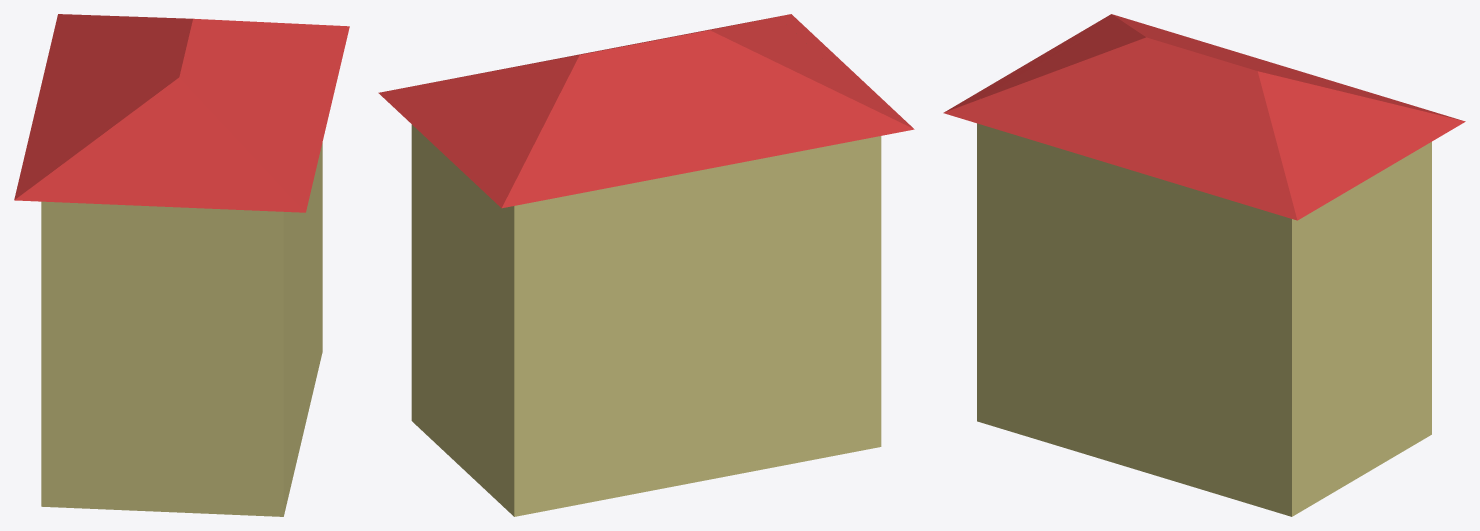
3 views of the same model, side by side, from view 1: azimuth 30°, elevation 25°; view 2: azimuth 150°, elevation 25°; view 3: azimuth 270°, elevation 25° (orthographic). The views are drawn at different scales.
Visible parts, largest first — view 1: group_5, group_3, group_4; view 2: group_5, group_3, group_4; view 3: group_5, group_3, group_4.
Boxes of the visible parts, box(x1,y1,x2,y2) form: group_5: box(41, 142, 322, 516); group_3: box(14, 14, 349, 212); group_4: box(108, 108, 305, 212); group_5: box(411, 124, 881, 516); group_3: box(378, 15, 914, 208); group_4: box(476, 14, 852, 207); group_5: box(977, 123, 1431, 516); group_3: box(945, 14, 1465, 220); group_4: box(943, 41, 1465, 146).
Bounding box in the file's own units: 15.06 × 16.1 × 12.74.
